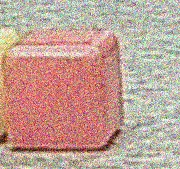orange_cube: (3, 23, 135, 160)
